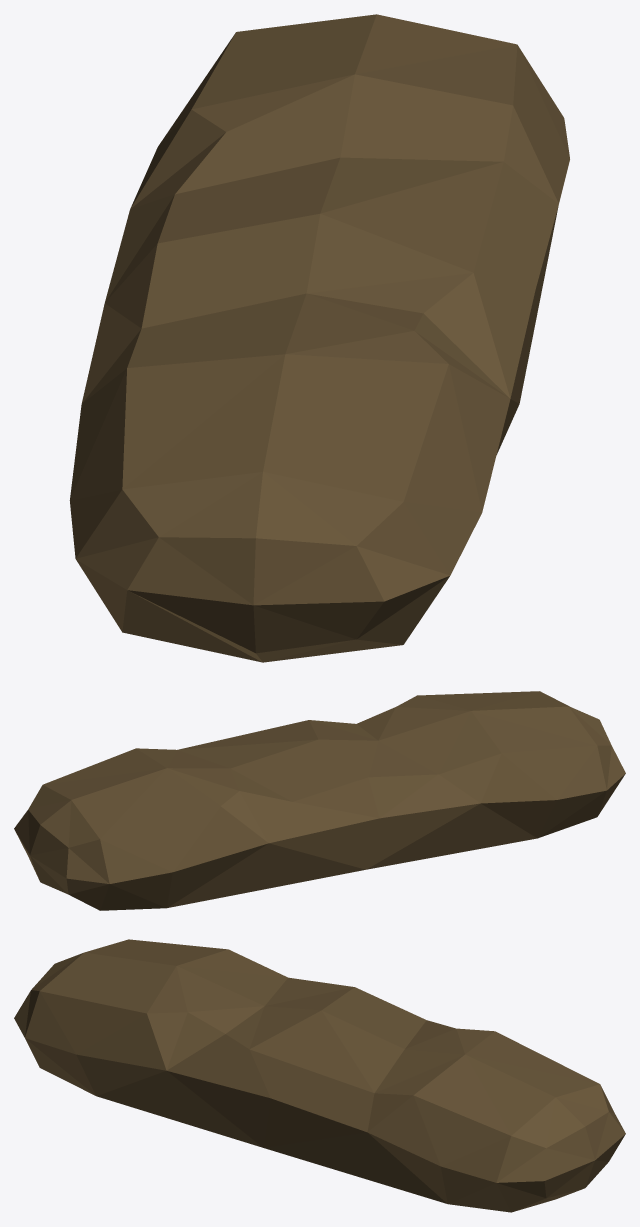
The model's file is ITFO_BREAD.OBJ.
3 views of the same model, one above another, from view 1: azimuth 30°, elevation 25°; view 2: azimuth 150°, elevation 25°; view 3: azimuth 270°, elevation 25° (orthographic). The views are drawn at different scales.
Parts seen in each view (by area): view 1: ITFO_BREAD; view 2: ITFO_BREAD; view 3: ITFO_BREAD.
Part boxes in pixels (x1,y1,x2,y2): ITFO_BREAD: [69, 14, 569, 662]; ITFO_BREAD: [14, 691, 625, 910]; ITFO_BREAD: [14, 939, 625, 1212].
Bounding box in the file's own units: 0.5208 × 0.15 × 0.6299.
